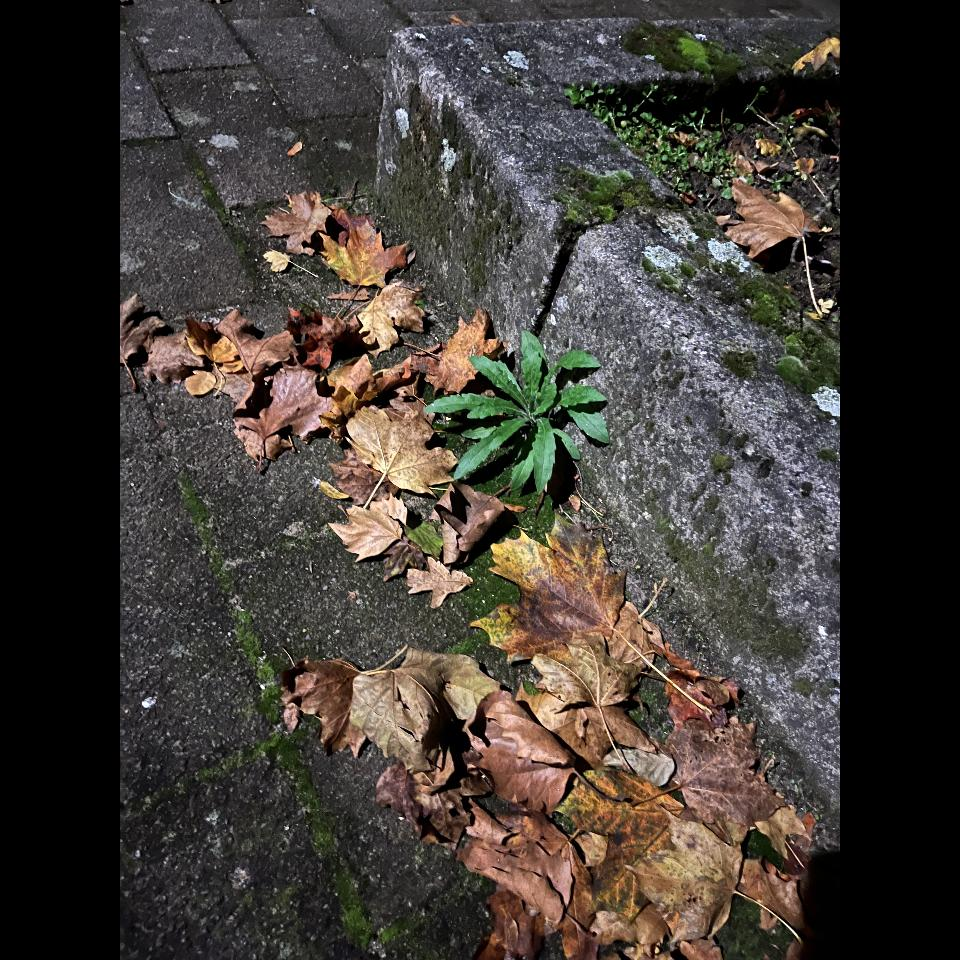weed: (182, 505, 387, 944), (428, 335, 606, 500)
